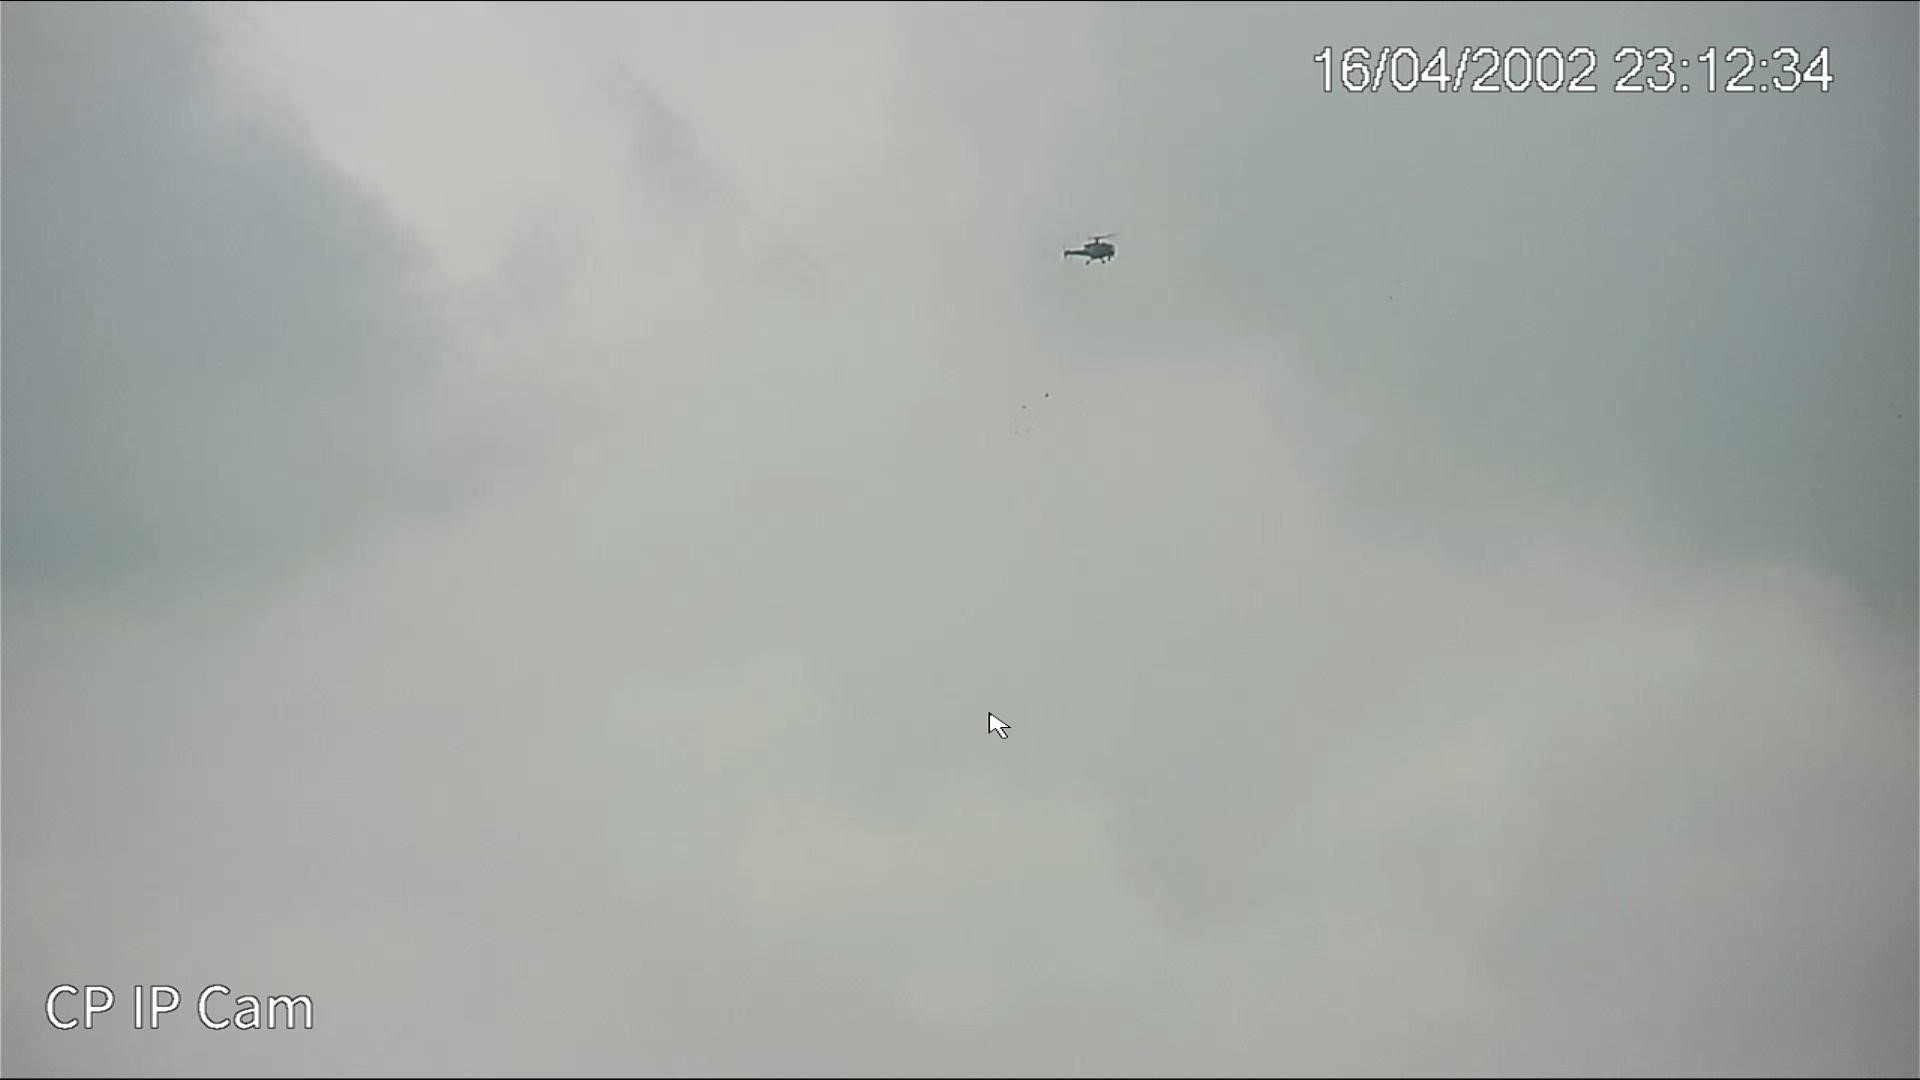SU_30: (1058, 239, 1117, 261)
